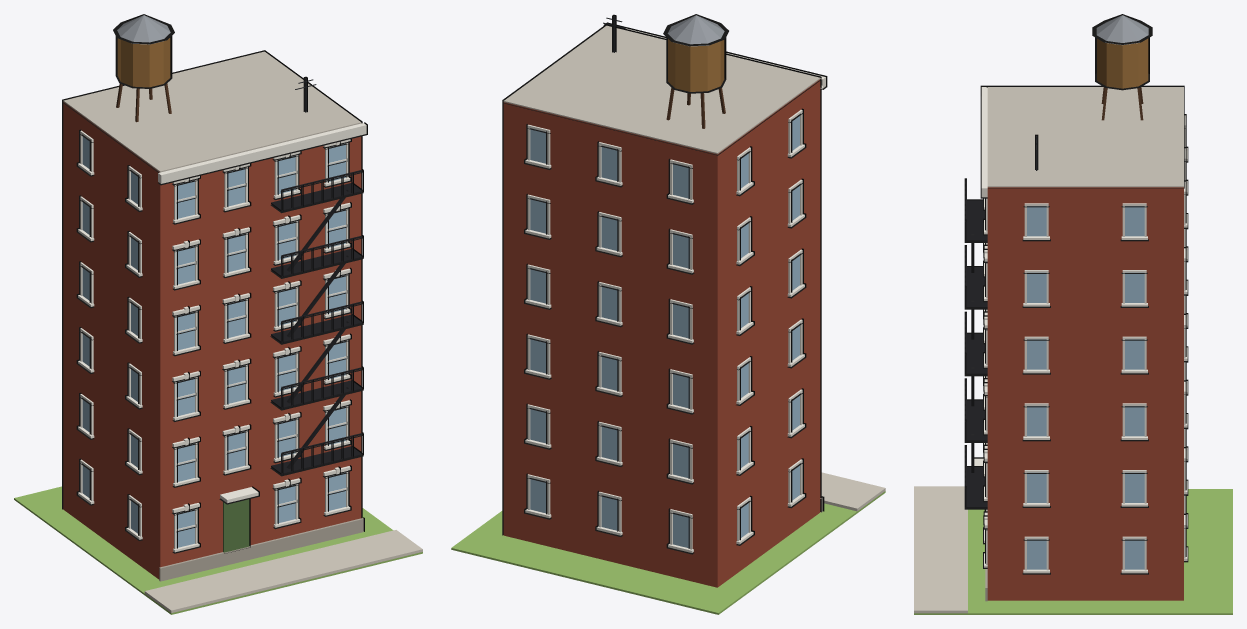
Rendered from Konut_tugla_apt_1.fbx.
3 views of the same model, side by side, from view 1: azimuth 30°, elevation 25°; view 2: azimuth 150°, elevation 25°; view 3: azimuth 270°, elevation 25° (orthographic). The views are drawn at different scales.
Visible parts, largest first — view 1: Konut_tugla_apt_1; view 2: Konut_tugla_apt_1; view 3: Konut_tugla_apt_1.
Part boxes in pixels (left/top/right/bottom): Konut_tugla_apt_1: left=14, top=14, right=422, bottom=614; Konut_tugla_apt_1: left=451, top=14, right=885, bottom=614; Konut_tugla_apt_1: left=914, top=14, right=1232, bottom=614.
Size of the model in its own units: 12 by 23.13 by 13.
